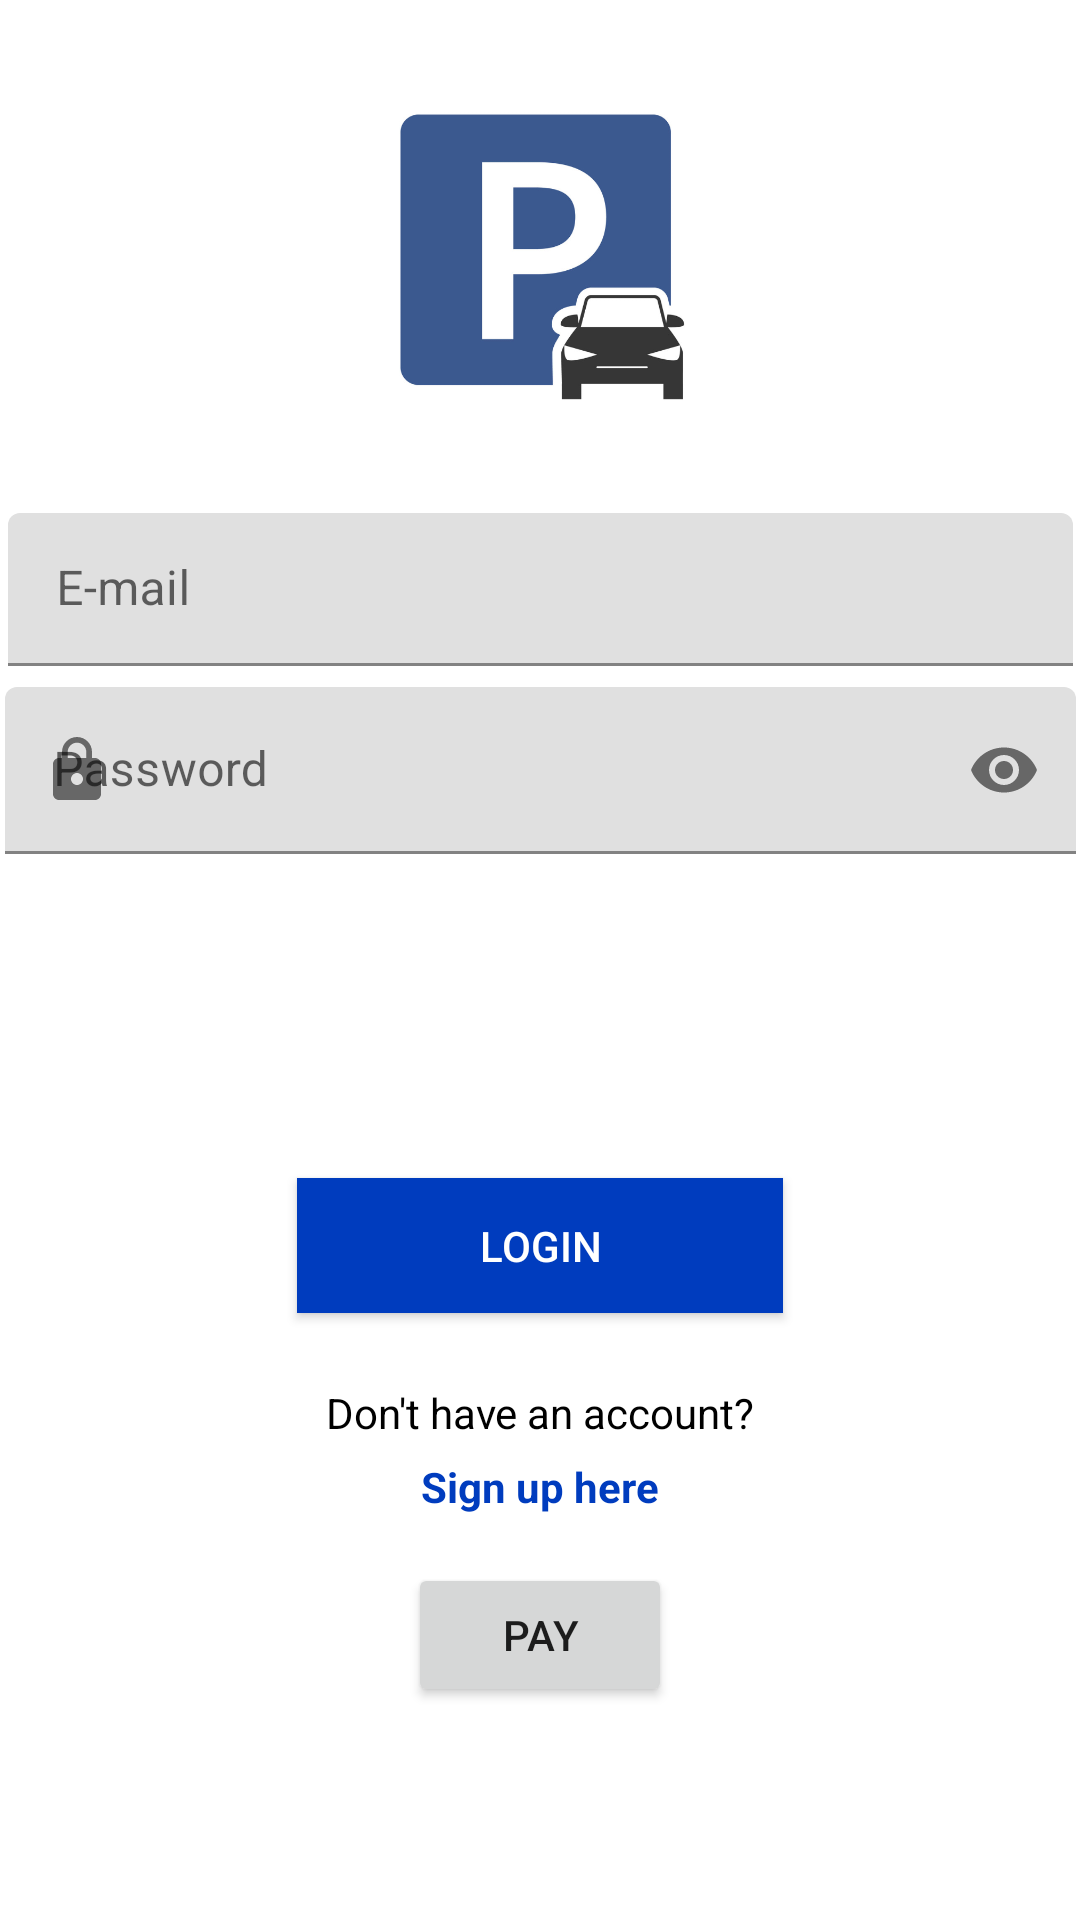

Where to tap for icons on this 1080 x 1920 app screen, as [x,y]:
parking car: [542,257]
